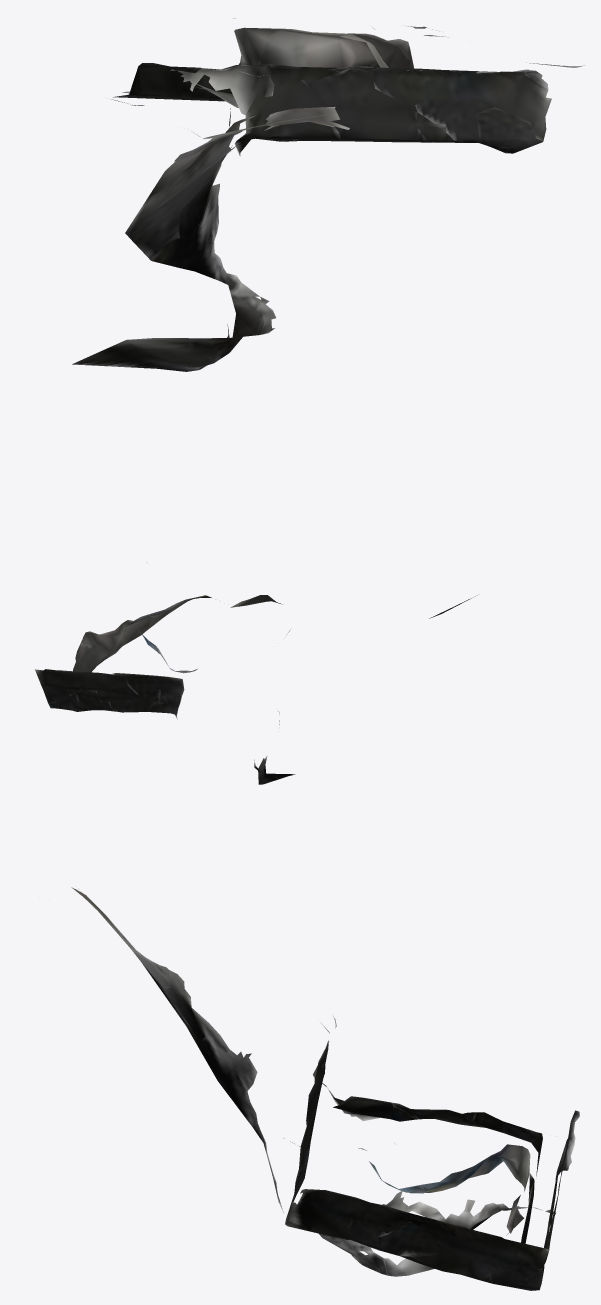
Rendered from hall.glb.
The picture shows the model from 3 angles, top to bottom: view 1: azimuth 30°, elevation 25°; view 2: azimuth 150°, elevation 25°; view 3: azimuth 270°, elevation 25°; orthographic projection. The views are drawn at different scales.
Bounding box in the file's own units: 1.28 × 0.9295 × 1.43.
1 material, 1 textured.
